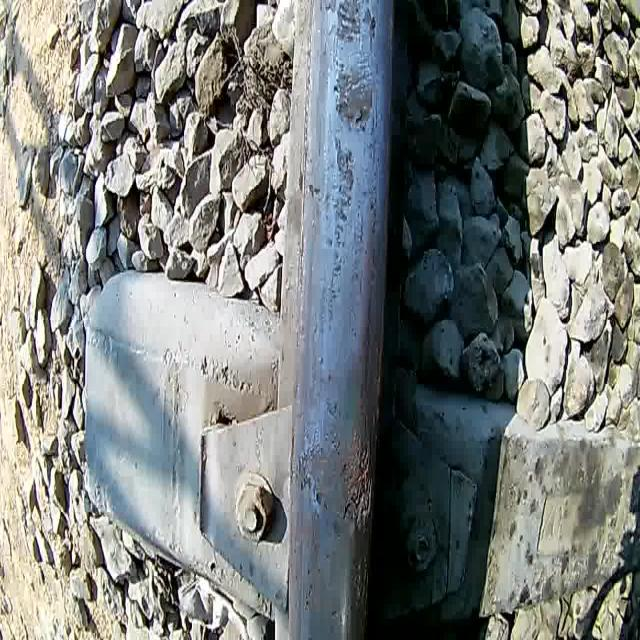Spallings: (341, 434, 375, 534), (298, 469, 331, 514)
Squats: (291, 424, 378, 542), (318, 134, 360, 333), (322, 54, 382, 136), (320, 0, 382, 52)
